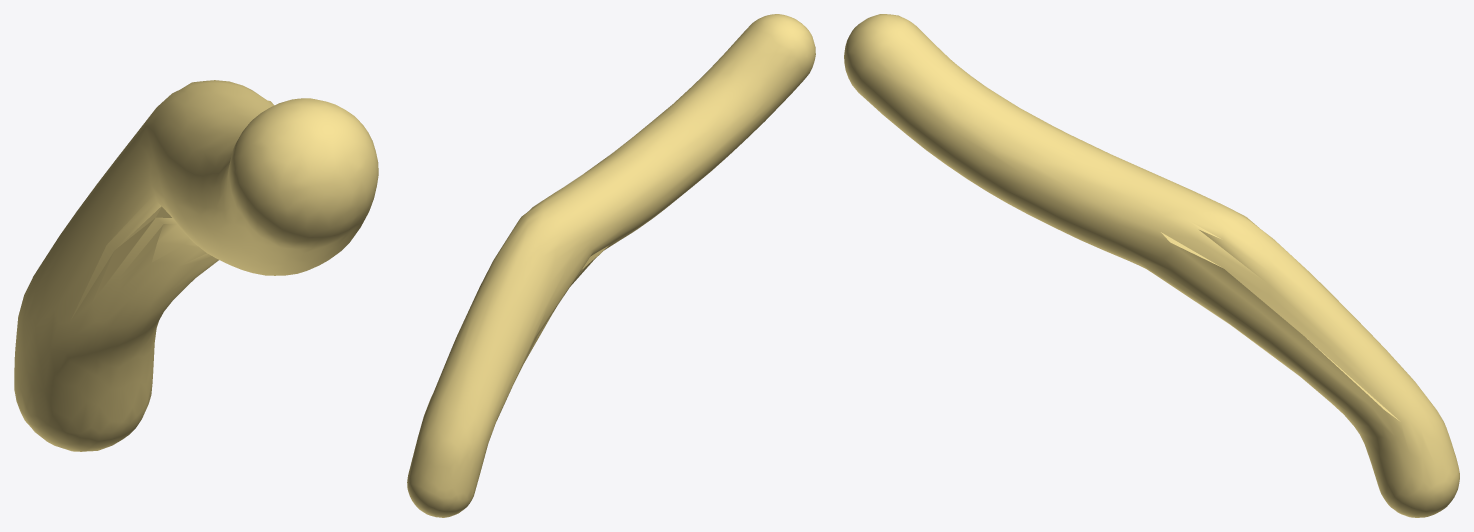
File: fma268226-o_mm2577.glb
3 views of the same model, side by side, from view 1: azimuth 30°, elevation 25°; view 2: azimuth 150°, elevation 25°; view 3: azimuth 270°, elevation 25° (orthographic). The views are drawn at different scales.
Parts seen in each view (by area): view 1: FMA268226-O_MM2577; view 2: FMA268226-O_MM2577; view 3: FMA268226-O_MM2577.
Boxes of the visible parts, x1=… form: FMA268226-O_MM2577: x1=14, y1=80, x2=378, y2=451; FMA268226-O_MM2577: x1=407, y1=14, x2=815, y2=517; FMA268226-O_MM2577: x1=844, y1=14, x2=1459, y2=517.
Bounding box in the file's own units: 0.0035 × 0.00688 × 0.00892.
